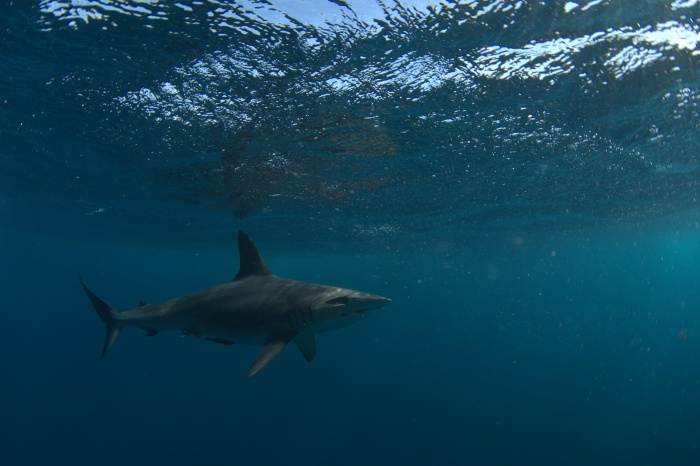Hammer: (53, 210, 436, 395)
